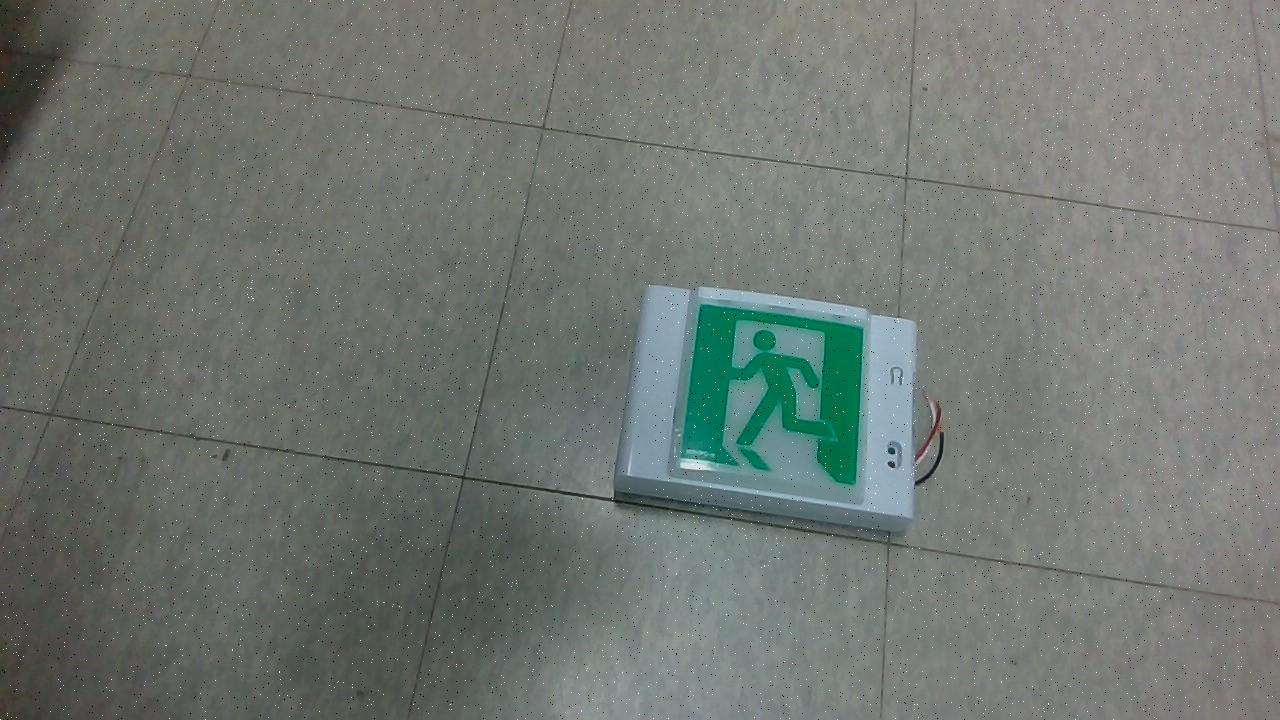emergency_exit: (612, 283, 918, 534)
